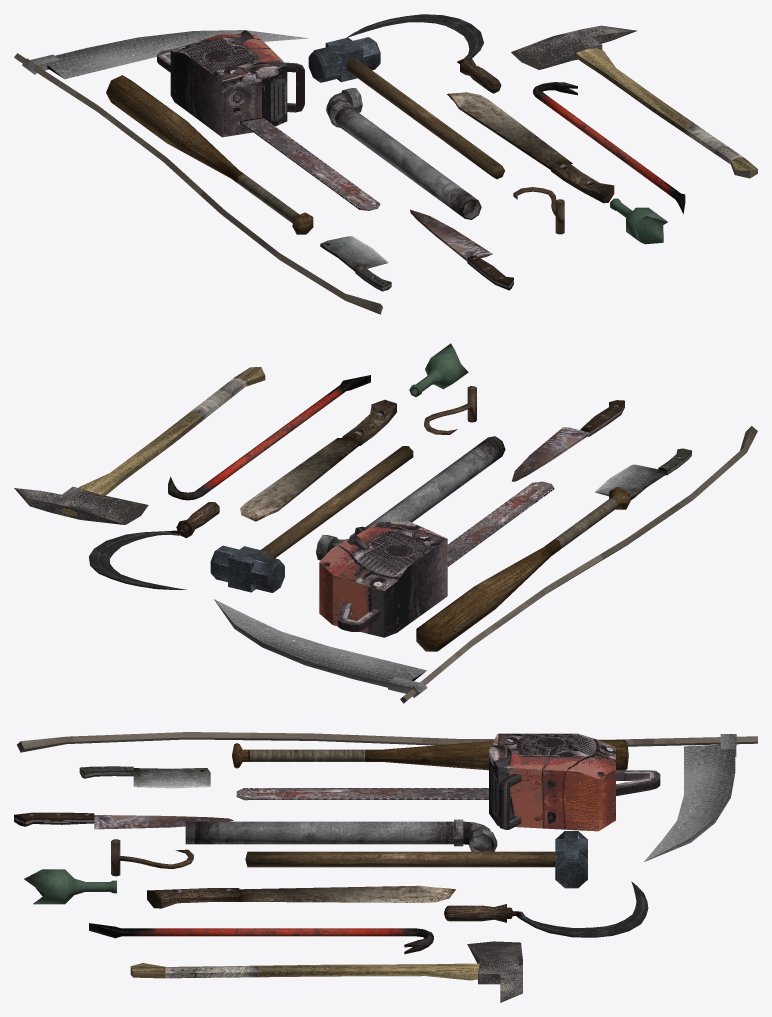
The model's file is low_poly_melee_horror_weapons_pack_1.glb.
3 views of the same model, one above another, from view 1: azimuth 30°, elevation 25°; view 2: azimuth 150°, elevation 25°; view 3: azimuth 270°, elevation 25° (orthographic). The views are drawn at different scales.
Visible parts, largest first — view 1: chainsaw_obj, sycthe_obj, axe_obj, baseball_bat_obj, sledgehammer_obj, metal_pipe_obj, machete_obj, sickle_obj, crowbar_obj, knife_obj, cleaver_obj, broken_bottle_obj (+1 smaller); view 2: chainsaw_obj, sycthe_obj, axe_obj, baseball_bat_obj, sledgehammer_obj, machete_obj, metal_pipe_obj, sickle_obj, crowbar_obj, knife_obj, cleaver_obj, broken_bottle_obj (+1 smaller); view 3: chainsaw_obj, sycthe_obj, metal_pipe_obj, sledgehammer_obj, axe_obj, baseball_bat_obj, machete_obj, crowbar_obj, sickle_obj, knife_obj, cleaver_obj, broken_bottle_obj (+1 smaller).
Part boxes in pixels (x1,y1,x2,y2): chainsaw_obj: (157, 30, 380, 210); sycthe_obj: (14, 30, 382, 314); axe_obj: (511, 25, 757, 178); baseball_bat_obj: (106, 75, 313, 234); sledgehammer_obj: (308, 37, 504, 179); metal_pipe_obj: (326, 88, 481, 219); machete_obj: (447, 92, 614, 203); sickle_obj: (346, 14, 501, 93); crowbar_obj: (533, 82, 685, 214); knife_obj: (410, 209, 513, 290); cleaver_obj: (320, 236, 391, 291); broken_bottle_obj: (610, 198, 667, 244); chainsaw_obj: (319, 481, 554, 637); sycthe_obj: (214, 426, 757, 703); axe_obj: (14, 367, 265, 524); baseball_bat_obj: (416, 487, 630, 651); sledgehammer_obj: (210, 446, 413, 592); machete_obj: (240, 399, 396, 521); metal_pipe_obj: (316, 436, 505, 560); sickle_obj: (89, 502, 219, 589); crowbar_obj: (168, 375, 370, 500); knife_obj: (511, 400, 624, 481); cleaver_obj: (595, 448, 691, 500); broken_bottle_obj: (409, 343, 468, 396); chainsaw_obj: (236, 733, 660, 831); sycthe_obj: (17, 732, 757, 861); metal_pipe_obj: (185, 819, 497, 851); sledgehammer_obj: (245, 831, 587, 888); axe_obj: (130, 941, 522, 1002); baseball_bat_obj: (232, 740, 628, 770); machete_obj: (147, 885, 455, 908); crowbar_obj: (89, 923, 433, 954); sickle_obj: (444, 881, 648, 937); knife_obj: (14, 812, 233, 829); cleaver_obj: (79, 766, 210, 788); broken_bottle_obj: (24, 869, 116, 904).
Bounding box in the file's own units: 1.38 × 0.1774 × 1.65.
13 materials, 13 textured.
